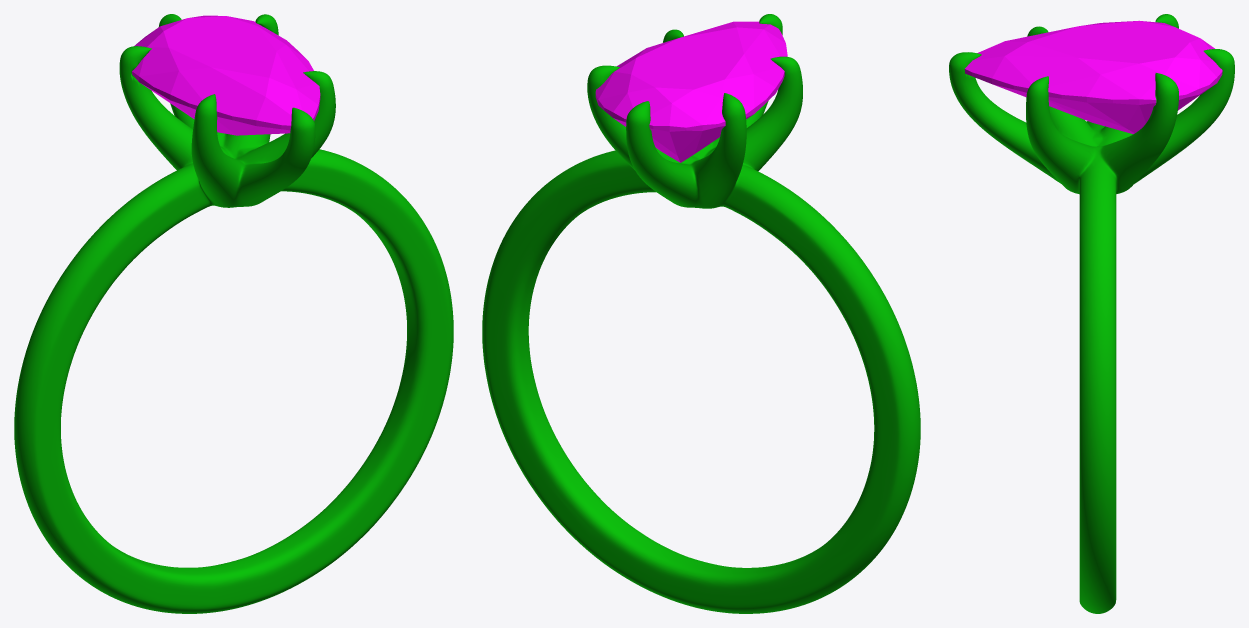
Rendered from BE1FM199H6_PE_200ct_RENDER.glb.
3 renders of one model, left to right at view 1: azimuth 30°, elevation 25°; view 2: azimuth 150°, elevation 25°; view 3: azimuth 270°, elevation 25°, orthographic.
Visible parts, largest first — view 1: Metal 01, CS_Diamond_Pear; view 2: Metal 01, CS_Diamond_Pear; view 3: Metal 01, CS_Diamond_Pear.
Part boxes in pixels (box(x1,y1,x2,y2)): Metal 01: box(14, 14, 453, 613); CS_Diamond_Pear: box(132, 15, 320, 135); Metal 01: box(482, 14, 920, 613); CS_Diamond_Pear: box(595, 21, 787, 162); Metal 01: box(949, 14, 1234, 613); CS_Diamond_Pear: box(964, 20, 1222, 134).
Bounding box in the file's own units: 20.09 × 24.53 × 11.59.
